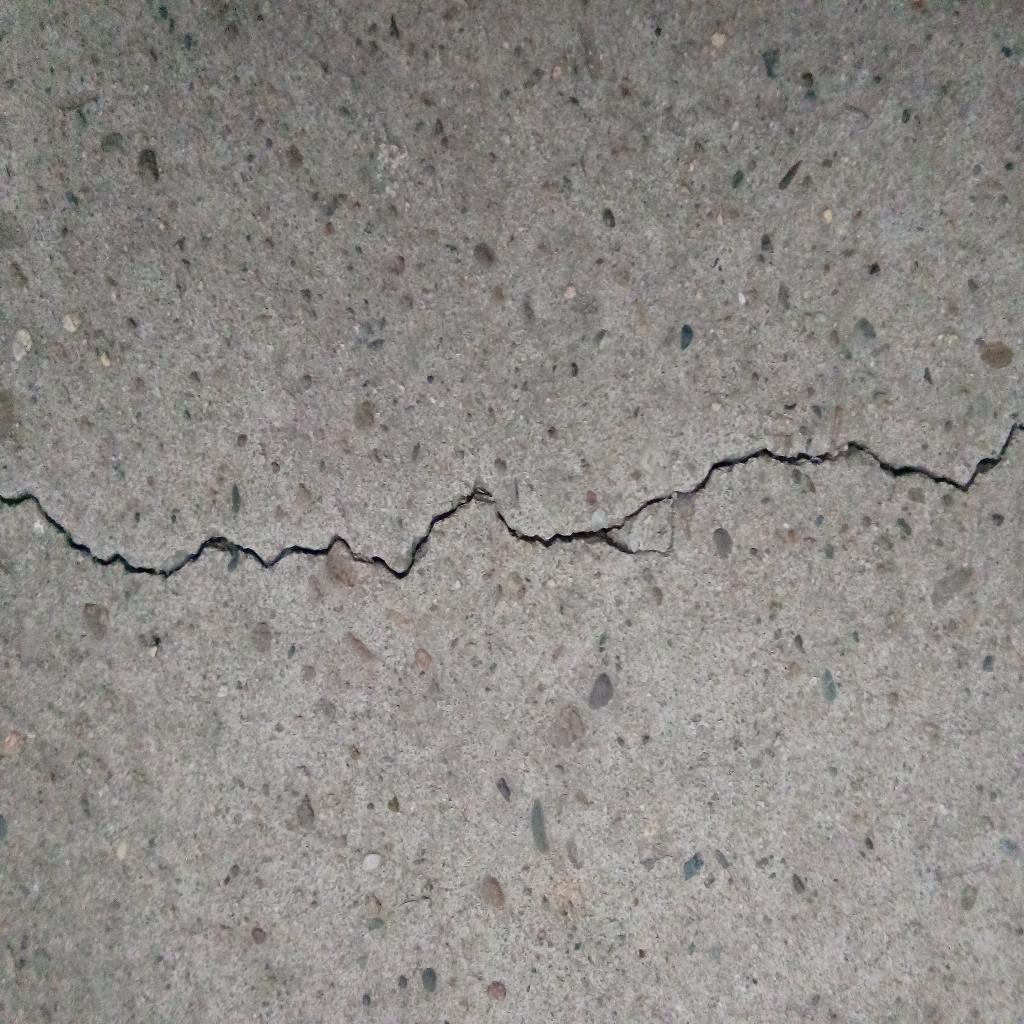Crack: (1, 418, 1024, 579)
